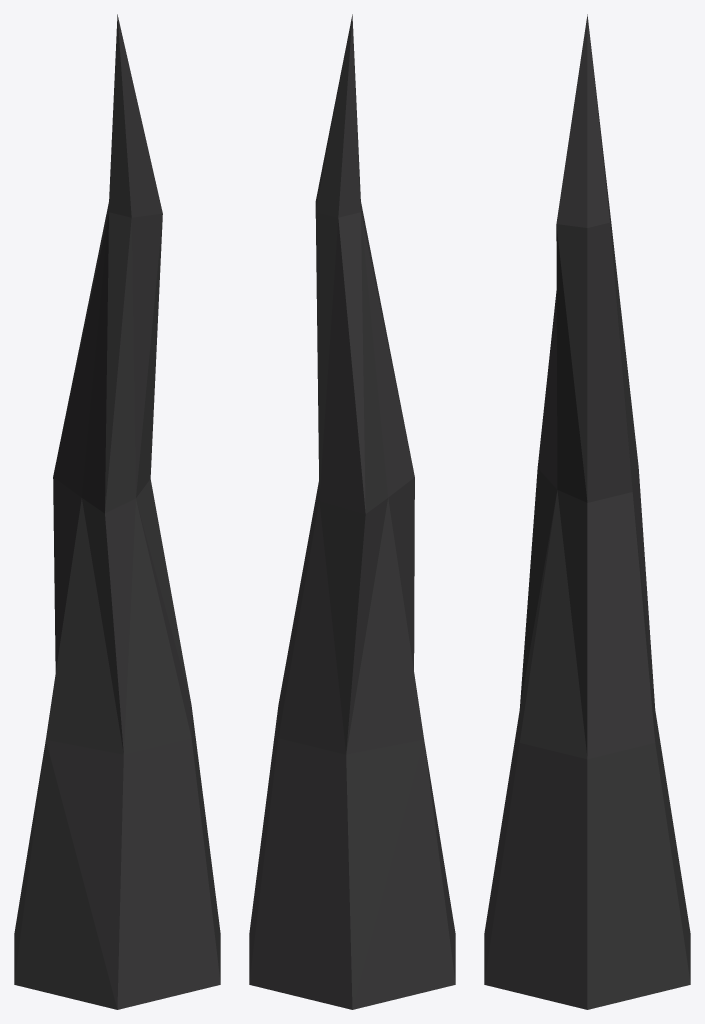
File: Stal_5.fbx
3 views of the same model, side by side, from view 1: azimuth 30°, elevation 25°; view 2: azimuth 150°, elevation 25°; view 3: azimuth 270°, elevation 25° (orthographic).
Parts seen in each view (by area): view 1: pCone46; view 2: pCone46; view 3: pCone46.
Boxes of the visible parts, left/top/right/bottom form: pCone46: left=14, top=14, right=220, bottom=1009; pCone46: left=249, top=14, right=455, bottom=1009; pCone46: left=484, top=14, right=690, bottom=1009.
Size of the model in its own units: 1.37 by 6 by 1.19.
